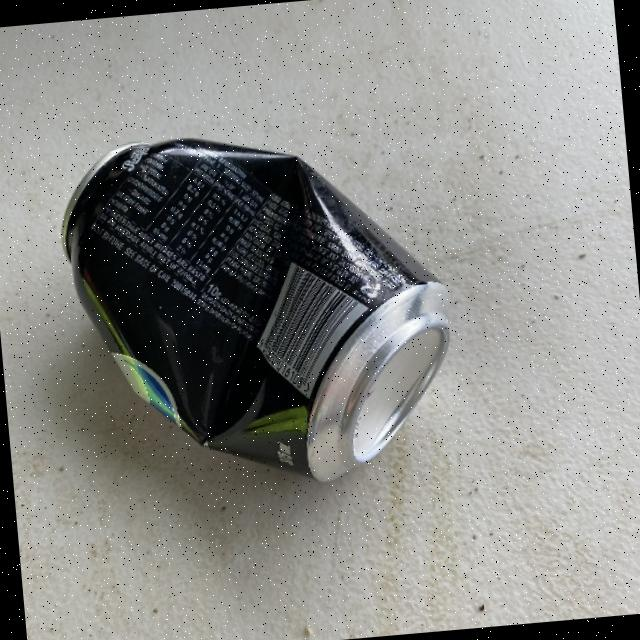metal: (52, 113, 464, 504)
